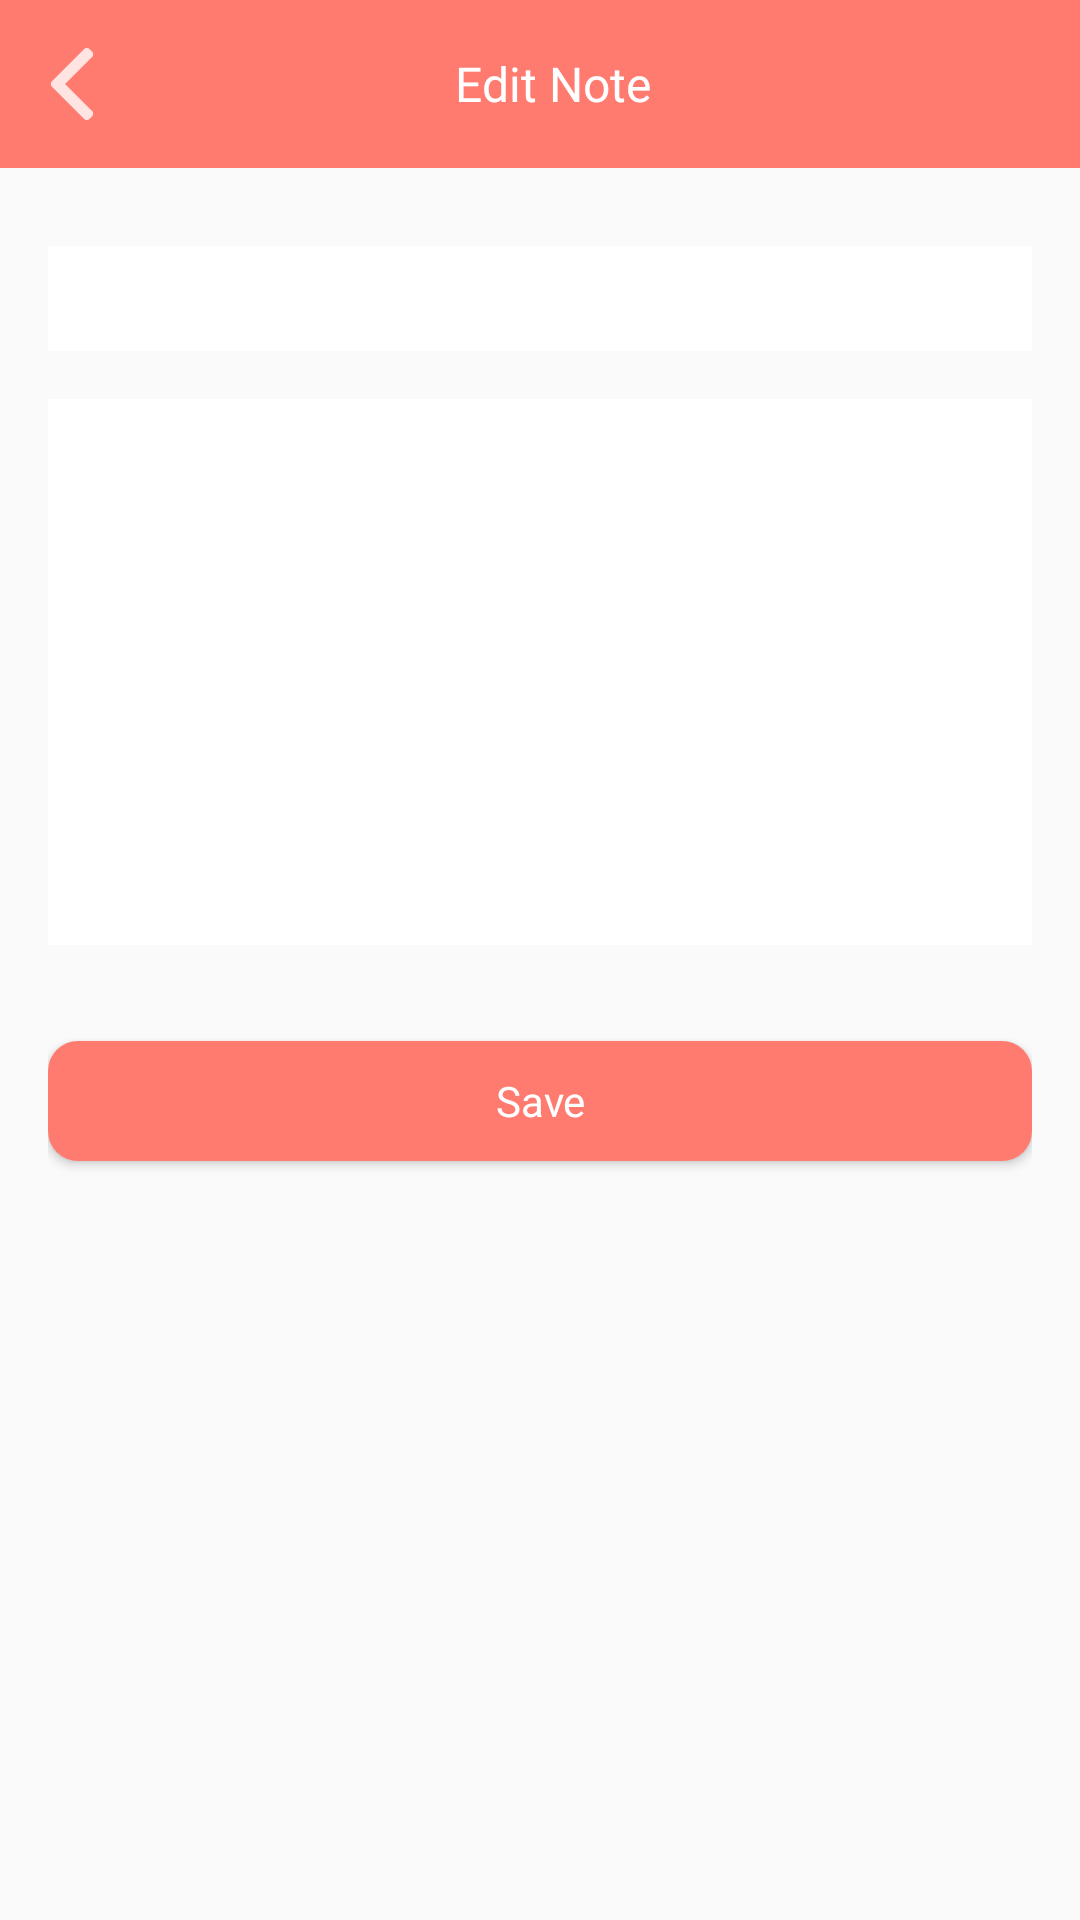

Icons on this 1080 x 1920 Android screen, each with its box as (x1, y1, x2, y2):
back: (51, 48, 93, 120)
